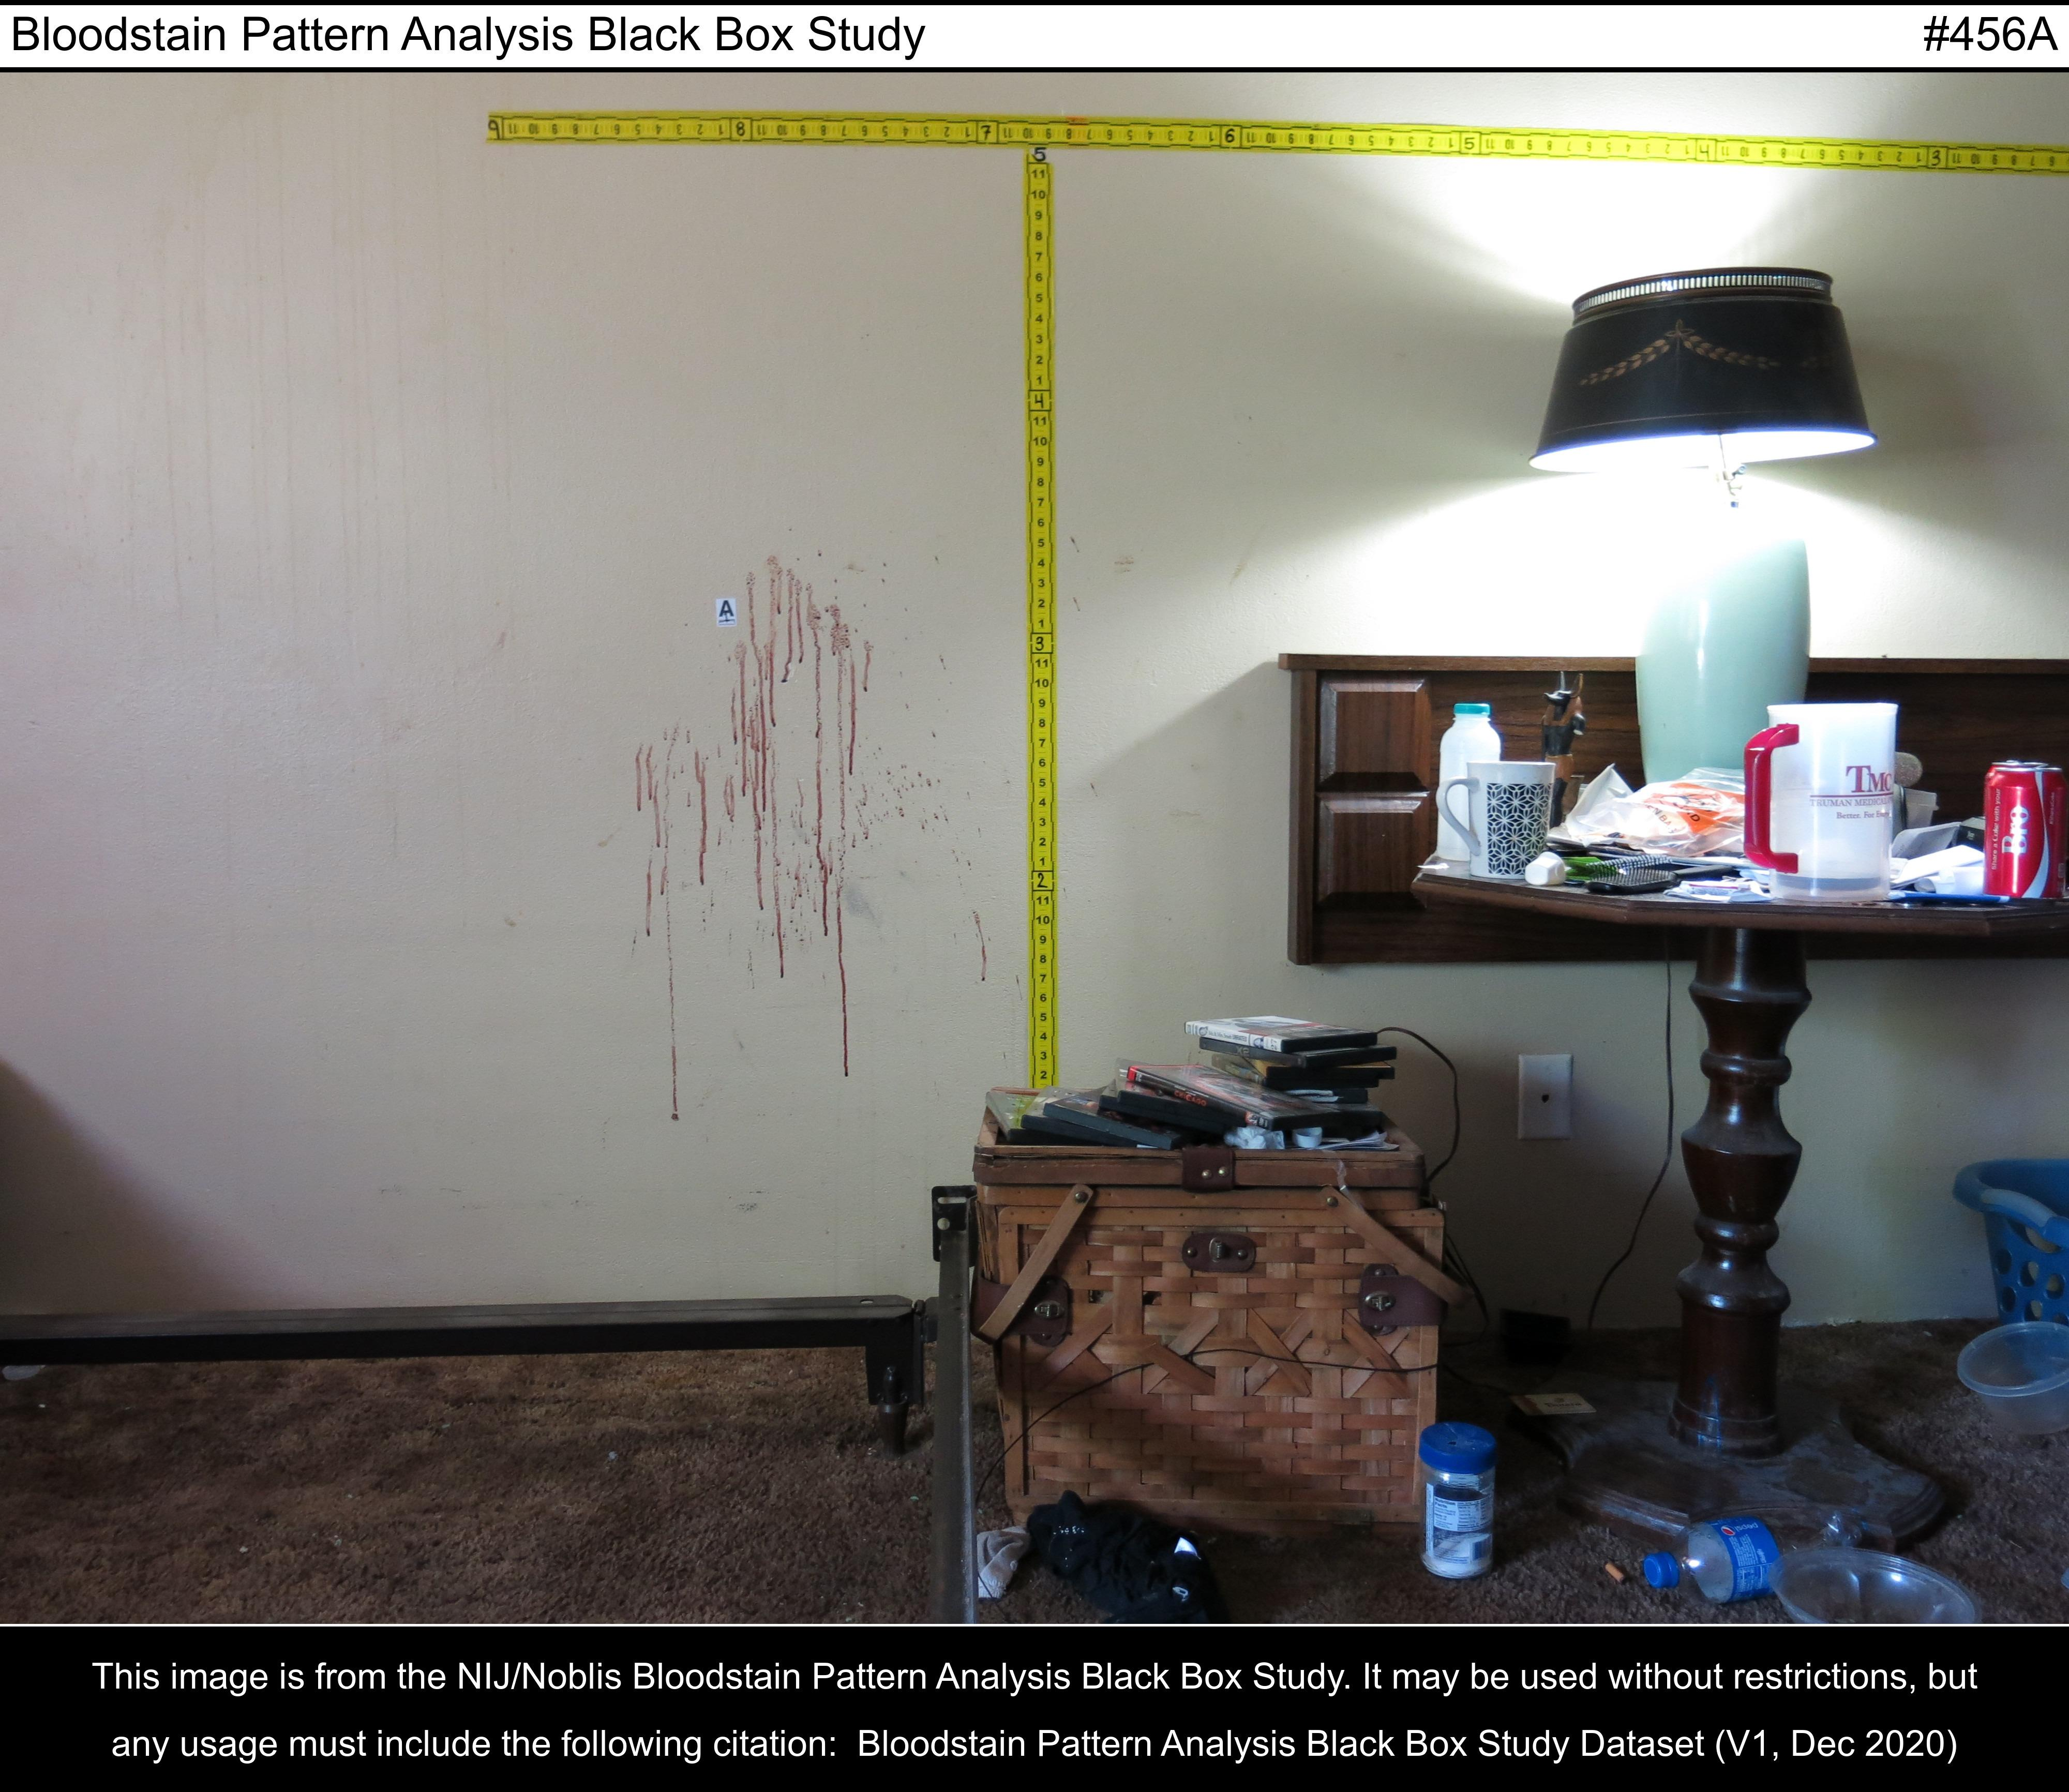Impact: (515, 499, 1005, 1131)
